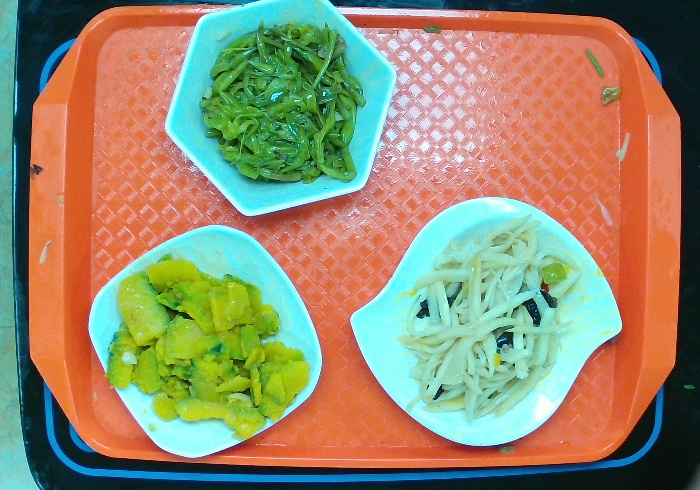RJxy-Liu_Jiao_Wan: (161, 1, 397, 218)
RJxy-Shuang_Jiao_Pan: (347, 194, 623, 449)
RJxy-Si_Fang_Wan: (86, 223, 324, 461)
